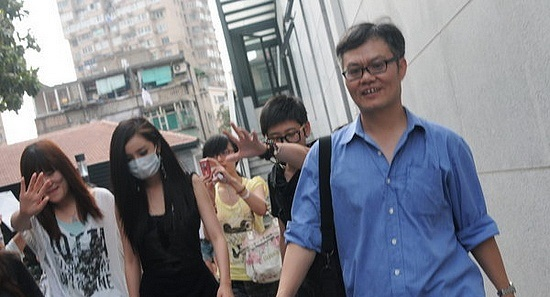face: (344, 43, 399, 108), (32, 163, 67, 203), (267, 123, 304, 159), (207, 142, 236, 179)
face_mask: (125, 138, 158, 180)
